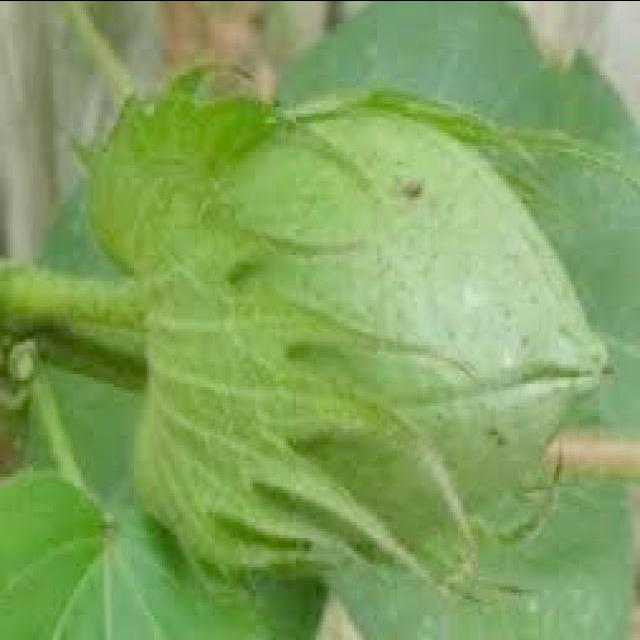Early Boll: (113, 66, 616, 592)
